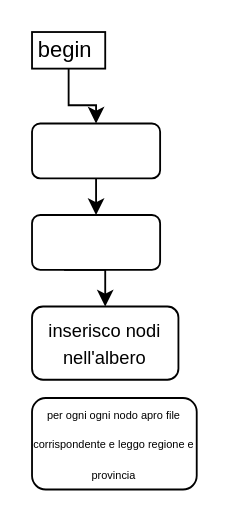
Image size: 229x522. Some labels were removed from this diagram. Each missing label, with the box of its shape:
Costruisco nodo per ogni file: (30, 213, 160, 270)
Salvo filenames dei file da leggere: (30, 122, 160, 178)
